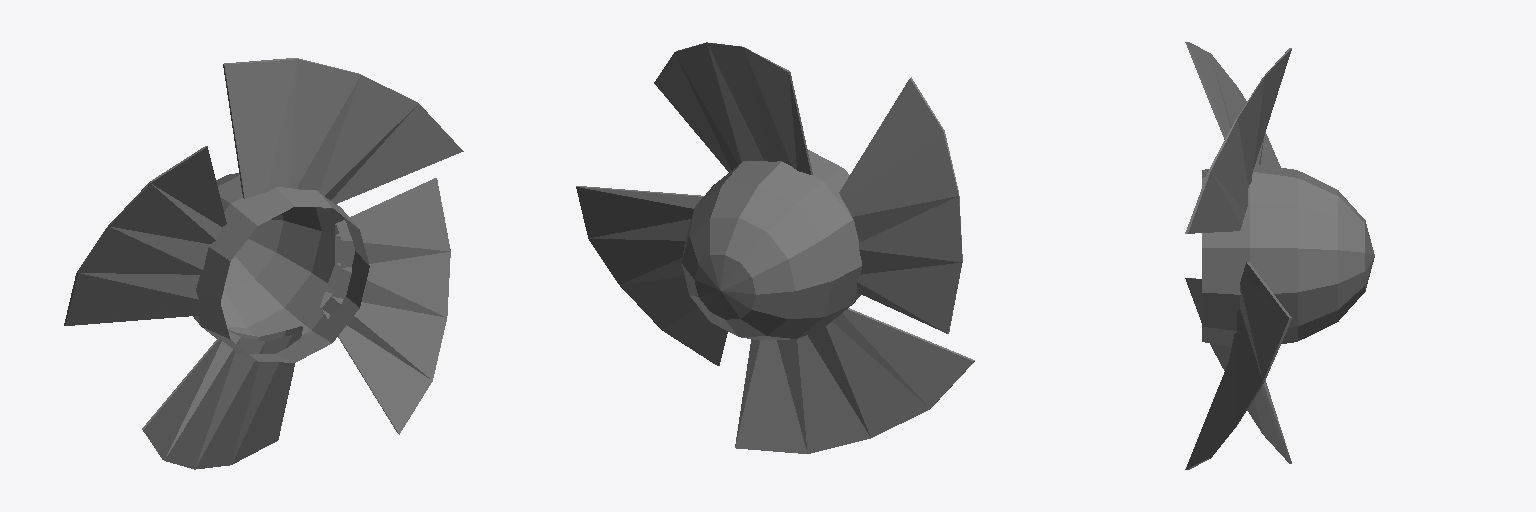
Rendered from Prop.obj.
3 views of the same model, side by side, from view 1: azimuth 30°, elevation 25°; view 2: azimuth 150°, elevation 25°; view 3: azimuth 270°, elevation 25° (orthographic).
Visible parts, largest first — view 1: rdmobj00.399_rdmobj00.402; view 2: rdmobj00.399_rdmobj00.402; view 3: rdmobj00.399_rdmobj00.402.
Part boxes in pixels (bbox=[...]): rdmobj00.399_rdmobj00.402: bbox=[64, 58, 463, 469]; rdmobj00.399_rdmobj00.402: bbox=[576, 42, 974, 453]; rdmobj00.399_rdmobj00.402: bbox=[1185, 42, 1374, 469].
Size of the model in its own units: 94.73 by 94.73 by 41.66.